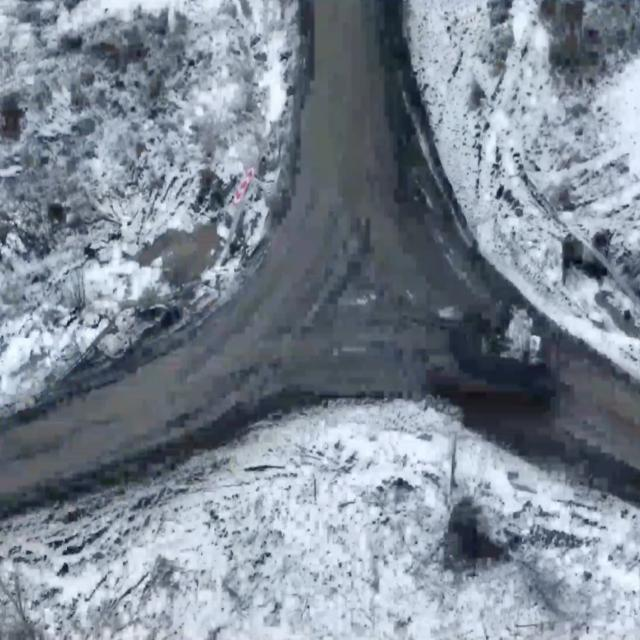vehicle: (417, 304, 559, 412)
